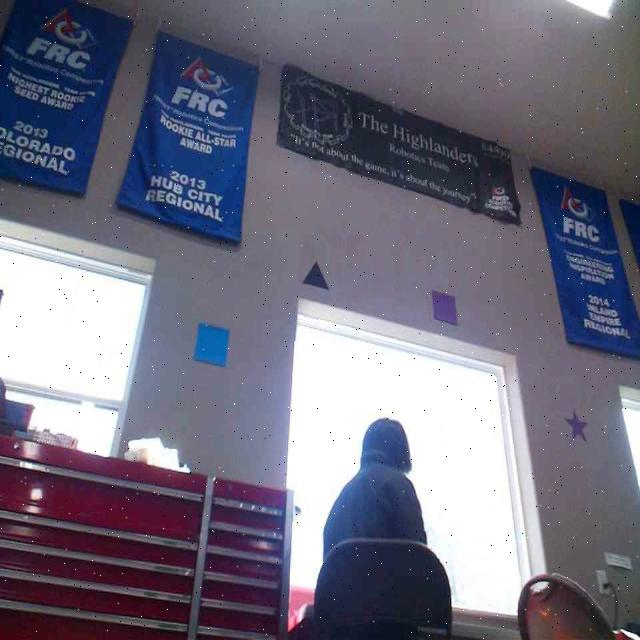square_blue: (192, 321, 230, 368)
square_purple: (430, 287, 458, 324)
star_purple: (562, 409, 587, 442)
triangle_black: (302, 258, 330, 290)
